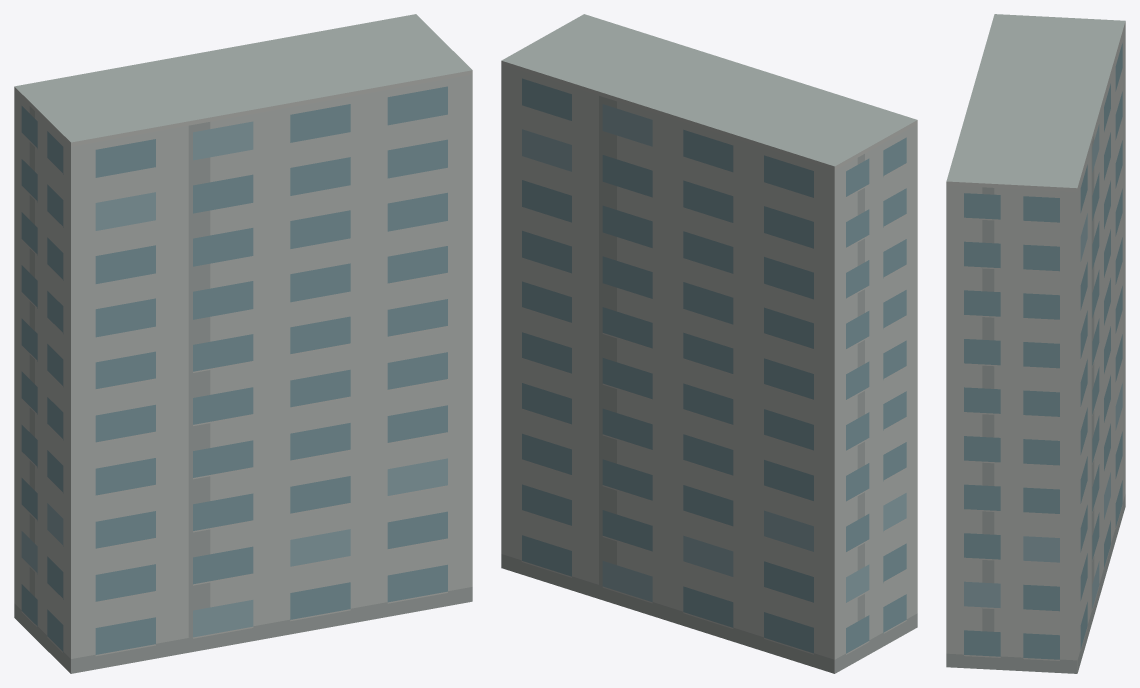
File: residential-a85ddf83-fd68-499e-a2bb-38c5ec79e365.glb
The picture shows the model from 3 angles, left to right: view 1: azimuth 30°, elevation 25°; view 2: azimuth 150°, elevation 25°; view 3: azimuth 270°, elevation 25°; orthographic projection. The views are drawn at different scales.
Visible parts, largest first — view 1: residential-a85ddf83-fd68-499e-a2bb-38c5ec79e365.tmp; view 2: residential-a85ddf83-fd68-499e-a2bb-38c5ec79e365.tmp; view 3: residential-a85ddf83-fd68-499e-a2bb-38c5ec79e365.tmp.
Boxes of the visible parts, x1,y1,x2,y2 form: residential-a85ddf83-fd68-499e-a2bb-38c5ec79e365.tmp: [14, 14, 472, 673]; residential-a85ddf83-fd68-499e-a2bb-38c5ec79e365.tmp: [501, 14, 917, 673]; residential-a85ddf83-fd68-499e-a2bb-38c5ec79e365.tmp: [946, 14, 1125, 673].
Bounding box in the file's own units: 23.08 × 30 × 10.04.
